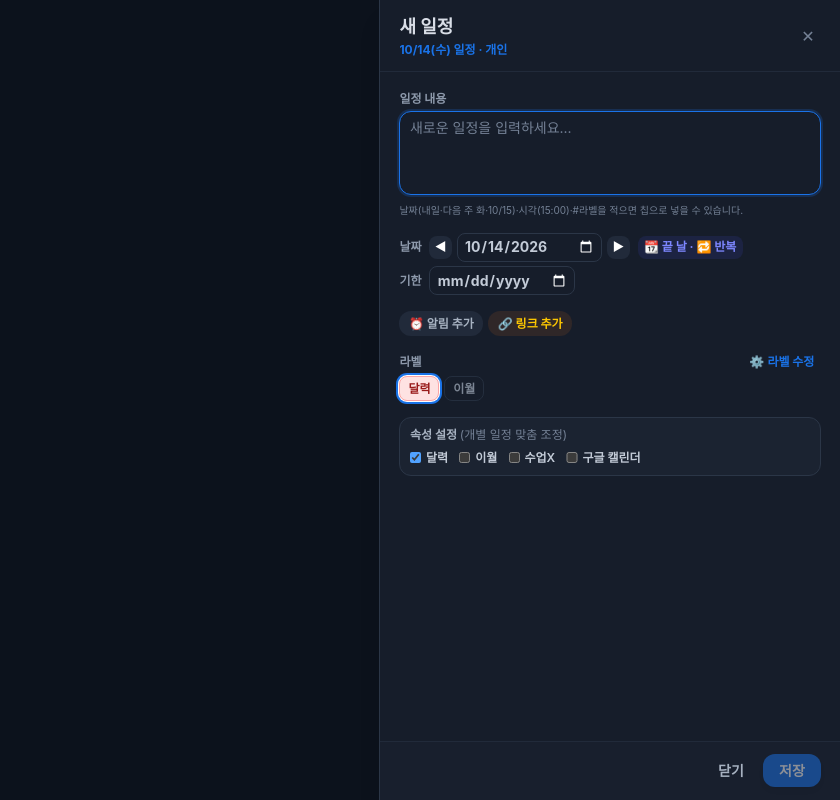
Test: 반복 (끝 날 줄의 요일 - P10-1) › '📆 끝 날' → 끝 날 + 요일 → 그 요일만 반복: 반복 문서 + 날마다 항목 한 묶음, 칸은 첫 항목의 수정 칸
Click the button "📆 끝 날 · 🔁 반복" at (690, 248), box [638,236,743,259]
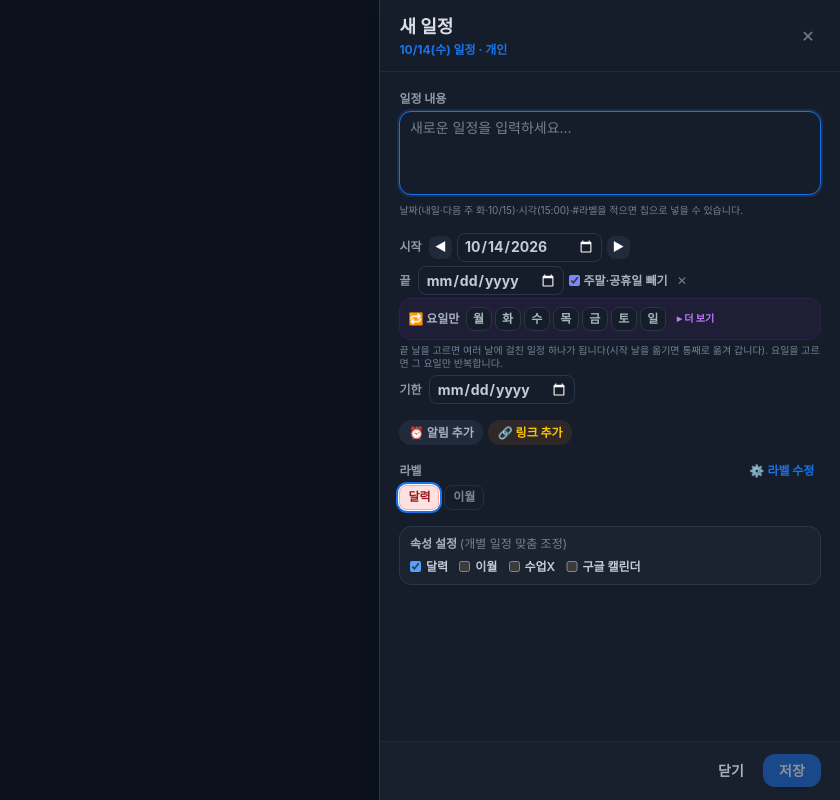
Type "2026-11-03" into the date field named "끝 날" at (491, 281), box [418,266,564,295]
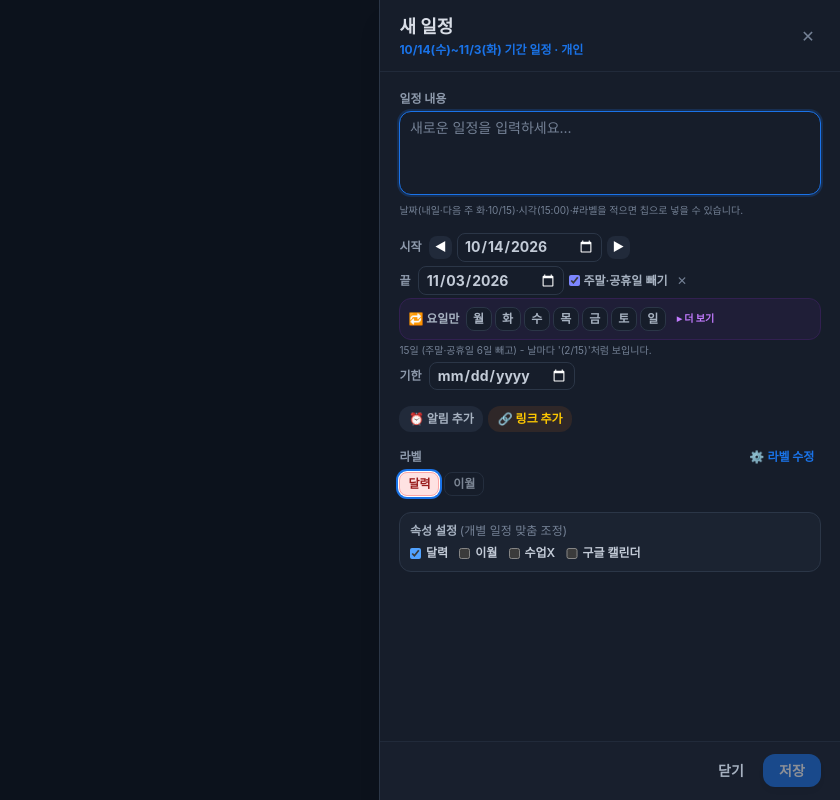
Expected: the text "15일 (주말·공휴일 6일 빼고) - 날마다 '(2/15)'처럼 보입니다." is shown, [399,344,652,356]
Click the button "화" at (508, 319), box [495,307,520,331]
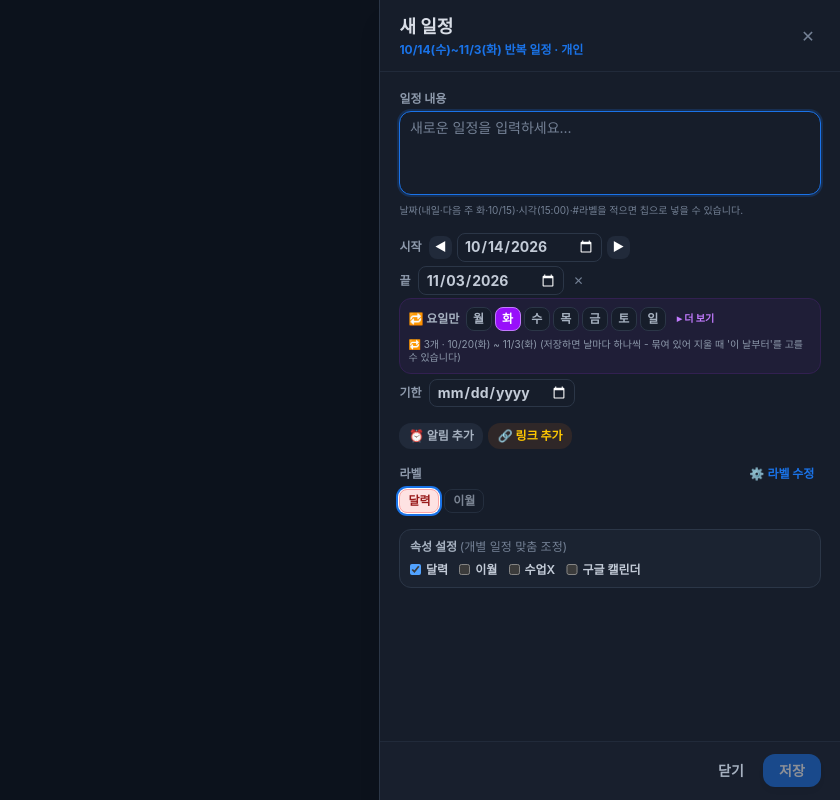
Expected: the element that starts with "🔁 요일만" has attribute data-event-recur-row="weekly", [399,298,821,374]
Type "학년 협의회" into the text box with placeholder "새로운 일정을 입력하세요..." at (610, 153), box [399,111,821,195]
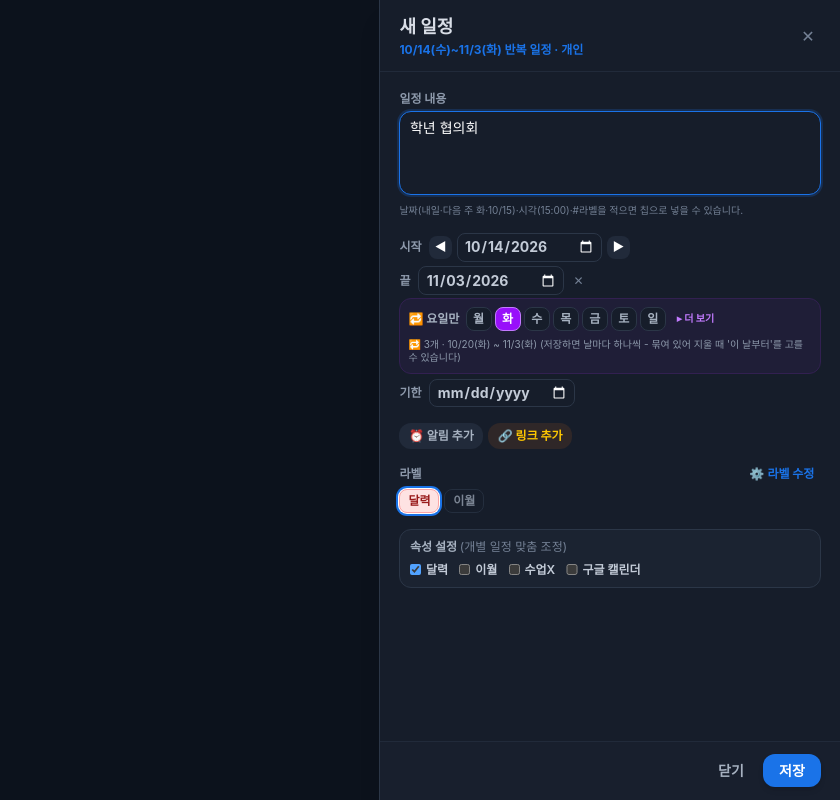
Click the button "저장" at (792, 771), box [763,754,821,787]
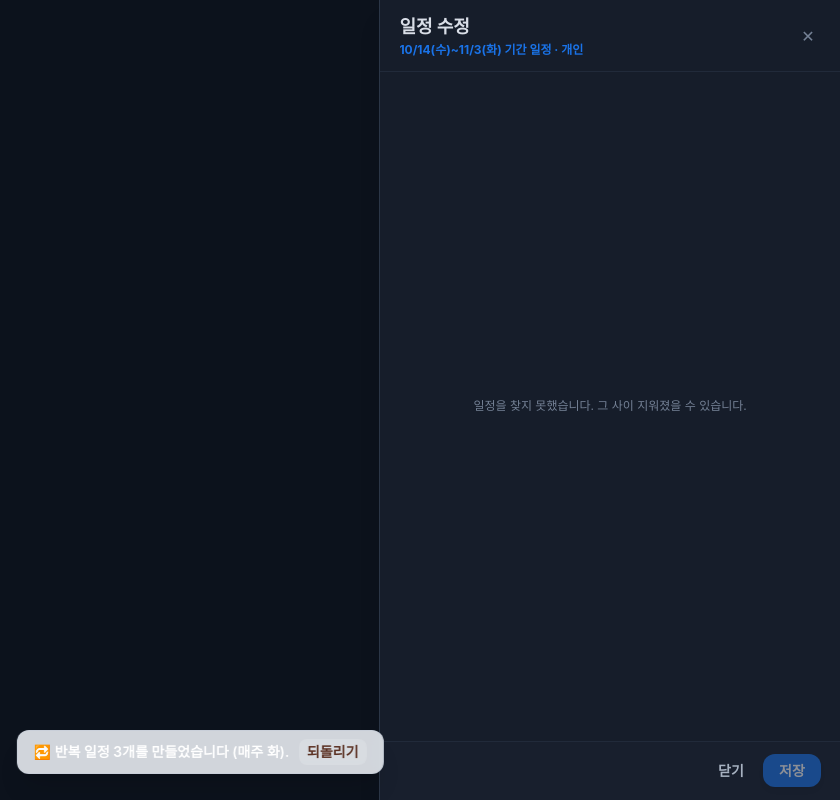
Expected: the message "🔁 반복 일정 3개를 만들었습니다 (매주 화). 되돌리기" is shown, [17,730,383,774]
